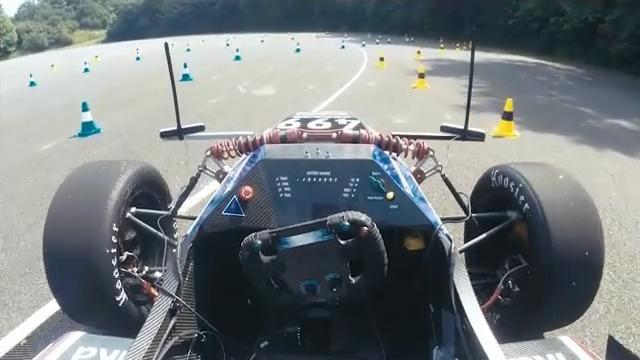blue_cone: (73, 100, 109, 136), (178, 63, 195, 80), (291, 38, 306, 56), (336, 39, 353, 52), (234, 46, 244, 64), (359, 38, 366, 48)
yellow_cone: (486, 90, 521, 139), (413, 64, 430, 91), (413, 45, 428, 59), (377, 55, 390, 71)
